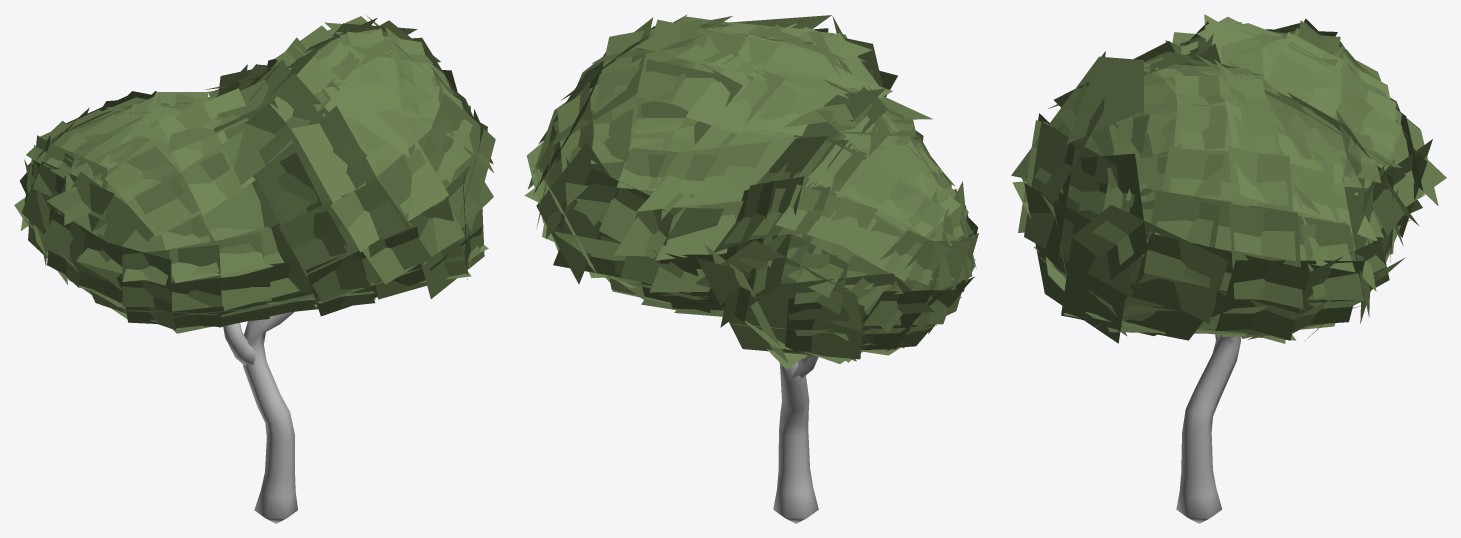
The model's file is MODEL_Oak1.fbx.
The picture shows the model from 3 angles, left to right: view 1: azimuth 30°, elevation 25°; view 2: azimuth 150°, elevation 25°; view 3: azimuth 270°, elevation 25°; orthographic projection. The views are drawn at different scales.
Visible parts, largest first — view 1: Canopy1, TreeTrunk1; view 2: Canopy1, TreeTrunk1; view 3: Canopy1, TreeTrunk1.
Boxes of the visible parts, x1,y1,x2,y2 form: Canopy1: [14, 15, 495, 333]; TreeTrunk1: [223, 311, 297, 523]; Canopy1: [524, 14, 979, 369]; TreeTrunk1: [773, 356, 818, 523]; Canopy1: [1011, 14, 1446, 343]; TreeTrunk1: [1176, 334, 1240, 523].
Bounding box in the file's own units: 1005 × 1092 × 866.
